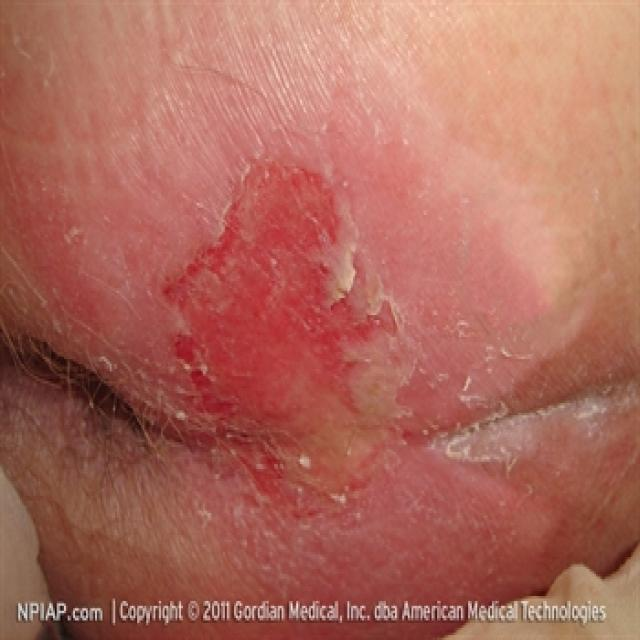stage-2: (167, 163, 394, 417)
